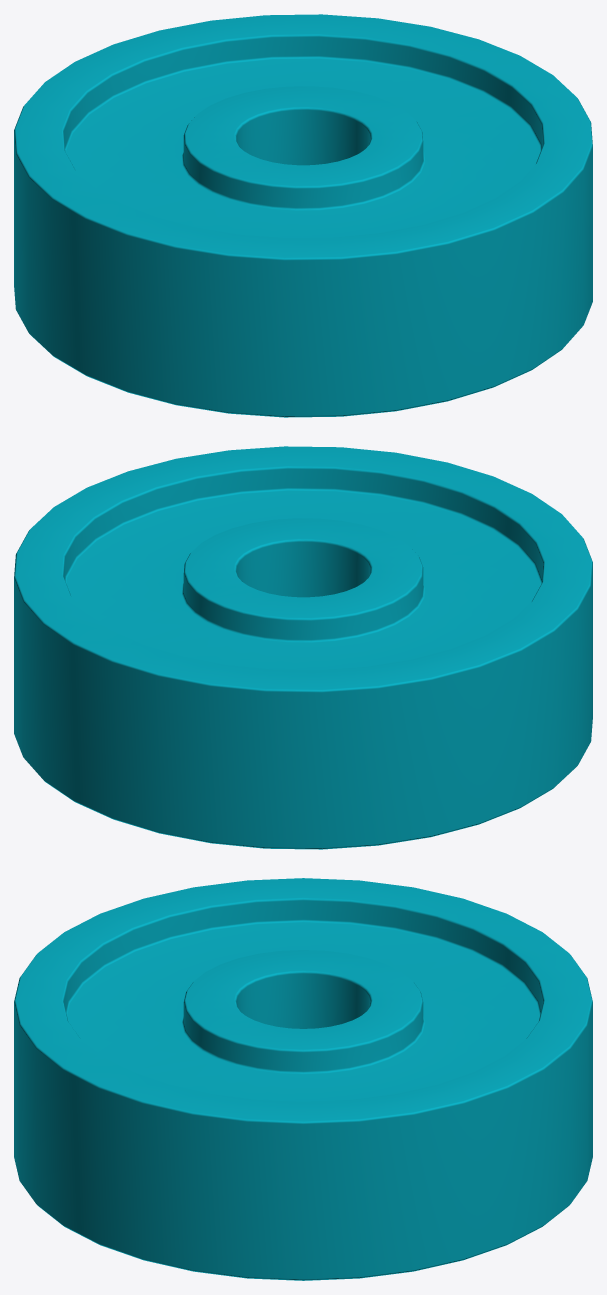
Rendered from Public_18_Weight_5.glb.
The picture shows the model from 3 angles, top to bottom: view 1: azimuth 30°, elevation 25°; view 2: azimuth 150°, elevation 25°; view 3: azimuth 270°, elevation 25°; orthographic projection.
Parts seen in each view (by area): view 1: Public_18_Weight_5; view 2: Public_18_Weight_5; view 3: Public_18_Weight_5.
Boxes of the visible parts, left/top/right/bottom form: Public_18_Weight_5: left=14, top=14, right=592, bottom=417; Public_18_Weight_5: left=14, top=446, right=592, bottom=849; Public_18_Weight_5: left=14, top=878, right=592, bottom=1280.
Size of the model in its own units: 1.32 by 0.4021 by 1.32.
Materials: 1 (1 with a texture image).
